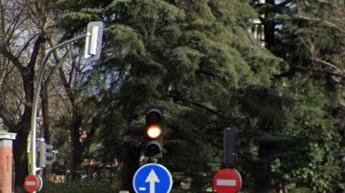yellow_light: (144, 106, 164, 158)
